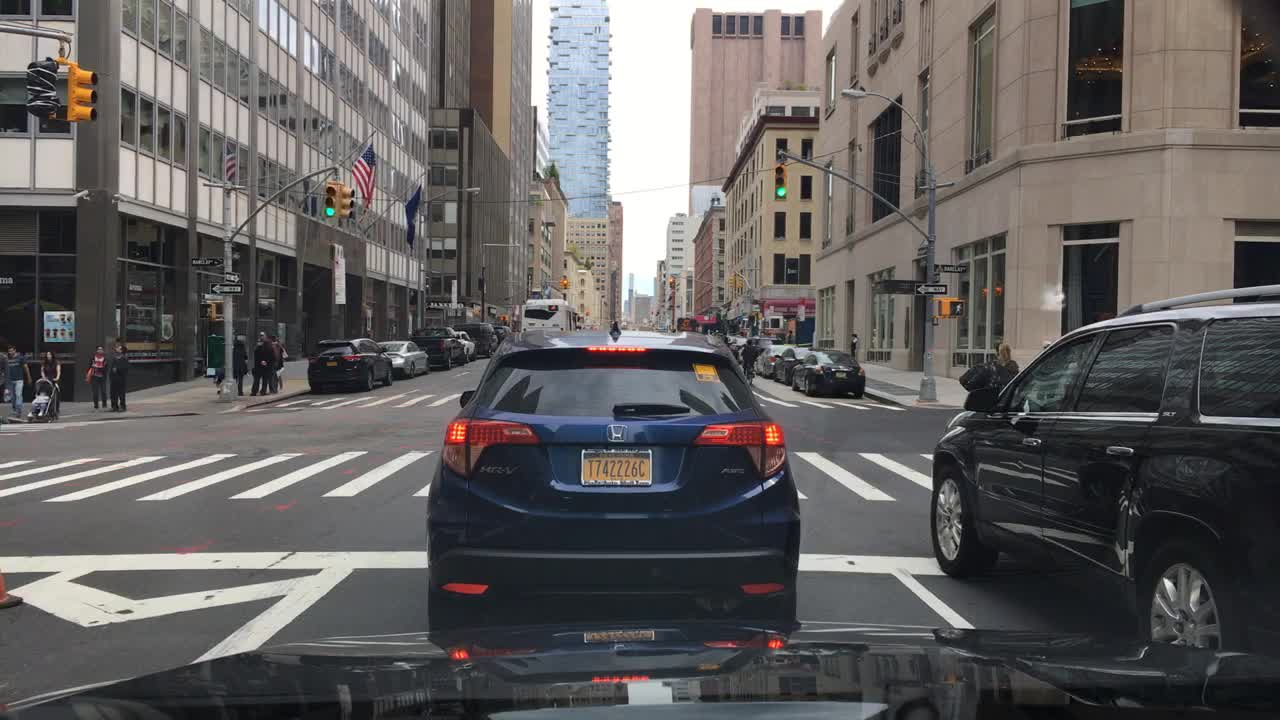bike: (739, 351, 761, 388)
bus: (517, 297, 581, 338)
car: (928, 284, 1279, 658), (425, 318, 800, 631), (307, 334, 395, 395), (788, 348, 868, 400), (409, 326, 464, 370), (378, 340, 431, 382), (766, 343, 819, 382), (454, 321, 501, 355), (749, 341, 792, 375), (726, 334, 768, 356), (454, 331, 478, 365), (490, 323, 517, 341)
person: (4, 341, 34, 422), (247, 328, 277, 400), (83, 341, 107, 412), (107, 345, 132, 412), (39, 348, 64, 412), (989, 343, 1019, 385), (267, 334, 287, 395), (230, 333, 248, 397), (0, 348, 14, 410), (847, 328, 861, 360)
rider: (739, 338, 761, 370)
traffic light: (66, 61, 96, 125), (937, 294, 964, 319), (771, 161, 788, 199), (339, 183, 356, 220), (324, 179, 336, 218), (196, 301, 216, 319)
traffic sign: (913, 280, 949, 296), (933, 260, 971, 275), (189, 255, 220, 269), (209, 282, 245, 294), (220, 270, 240, 282)
